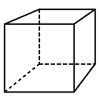cubos: (3, 6, 99, 96)
